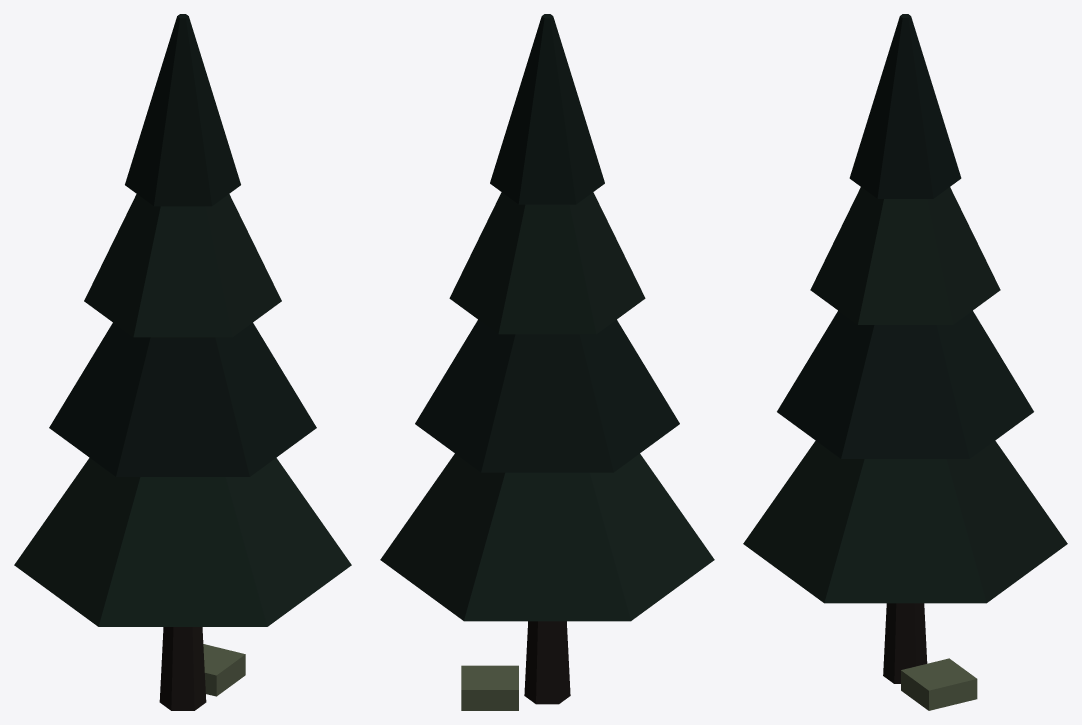
Rendered from black_pine.glb.
3 views of the same model, side by side, from view 1: azimuth 30°, elevation 25°; view 2: azimuth 150°, elevation 25°; view 3: azimuth 270°, elevation 25° (orthographic). The views are drawn at different scales.
Parts seen in each view (by area): view 1: BlackPine; view 2: BlackPine; view 3: BlackPine.
Boxes of the visible parts, <box> form: BlackPine: <box>14,14,351,710</box>; BlackPine: <box>380,14,714,710</box>; BlackPine: <box>743,14,1067,710</box>.
Bounding box in the file's own units: 2.51 × 6.5 × 2.9.
